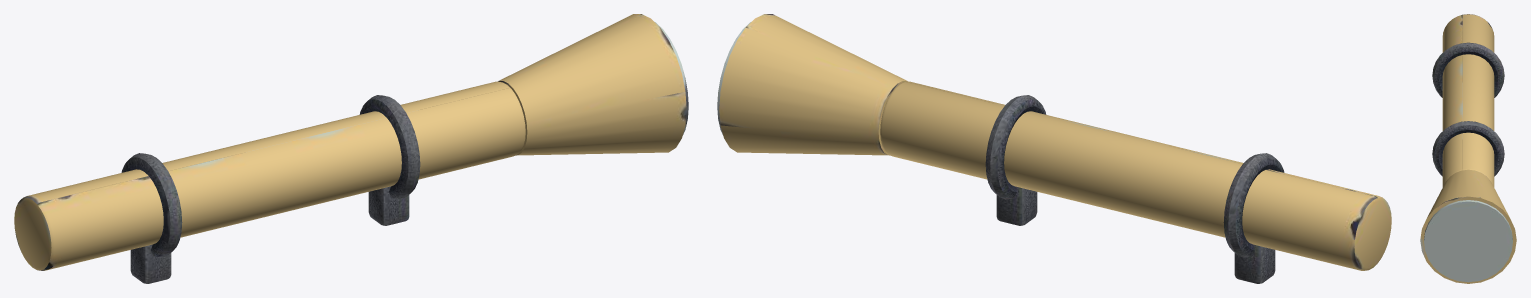
File: att_nightglass.glb
3 views of the same model, side by side, from view 1: azimuth 30°, elevation 25°; view 2: azimuth 150°, elevation 25°; view 3: azimuth 270°, elevation 25° (orthographic). The views are drawn at different scales.
Visible parts, largest first — view 1: tube, bell, ring-0.05, ring0.05, foot0.05, foot-0.05; view 2: tube, bell, ring-0.05, ring0.05, foot0.05, foot-0.05; view 3: tube, glass, bell, ring0.05, ring-0.05.
Boxes of the visible parts, <box> form: tube: <box>14,81,525,270</box>; bell: <box>498,14,686,155</box>; ring-0.05: <box>121,153,182,257</box>; ring0.05: <box>359,95,420,199</box>; foot0.05: <box>368,186,409,225</box>; foot-0.05: <box>130,244,171,283</box>; tube: <box>880,81,1391,270</box>; bell: <box>719,14,907,155</box>; ring-0.05: <box>1223,153,1284,257</box>; ring0.05: <box>985,95,1046,199</box>; foot0.05: <box>996,186,1037,225</box>; foot-0.05: <box>1234,244,1275,283</box>; tube: <box>1442,14,1494,187</box>; glass: <box>1424,200,1512,282</box>; bell: <box>1420,169,1516,283</box>; ring0.05: <box>1432,121,1504,176</box>; ring-0.05: <box>1432,42,1504,97</box>.
Bounding box in the file's own units: 0.262 × 0.055 × 0.052.
1 material, 1 textured.
